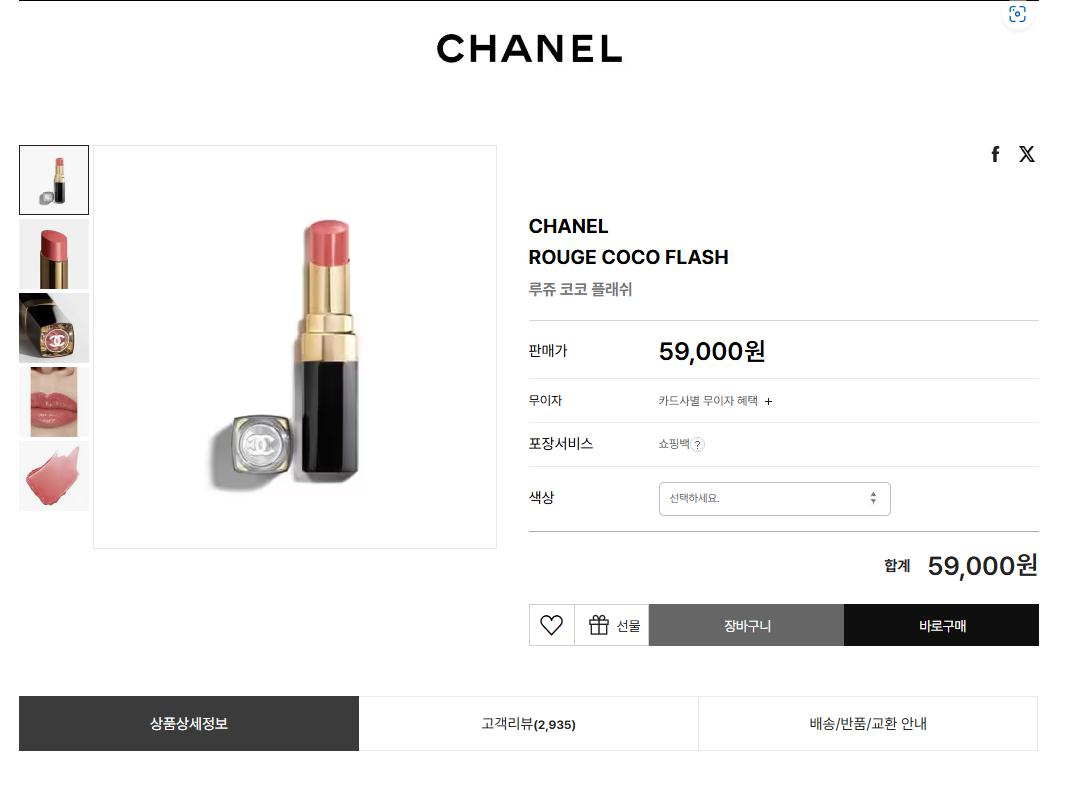button: (20, 690, 349, 756), (703, 689, 1041, 751), (352, 698, 694, 747), (653, 602, 844, 651), (850, 609, 1040, 650), (17, 144, 94, 218), (17, 222, 97, 289), (18, 370, 87, 440), (20, 294, 89, 356), (24, 450, 87, 509), (577, 601, 654, 643), (519, 601, 579, 642), (987, 141, 1007, 179), (763, 390, 781, 420), (1024, 142, 1037, 168), (687, 434, 702, 453)
input_field: (656, 483, 892, 513)
